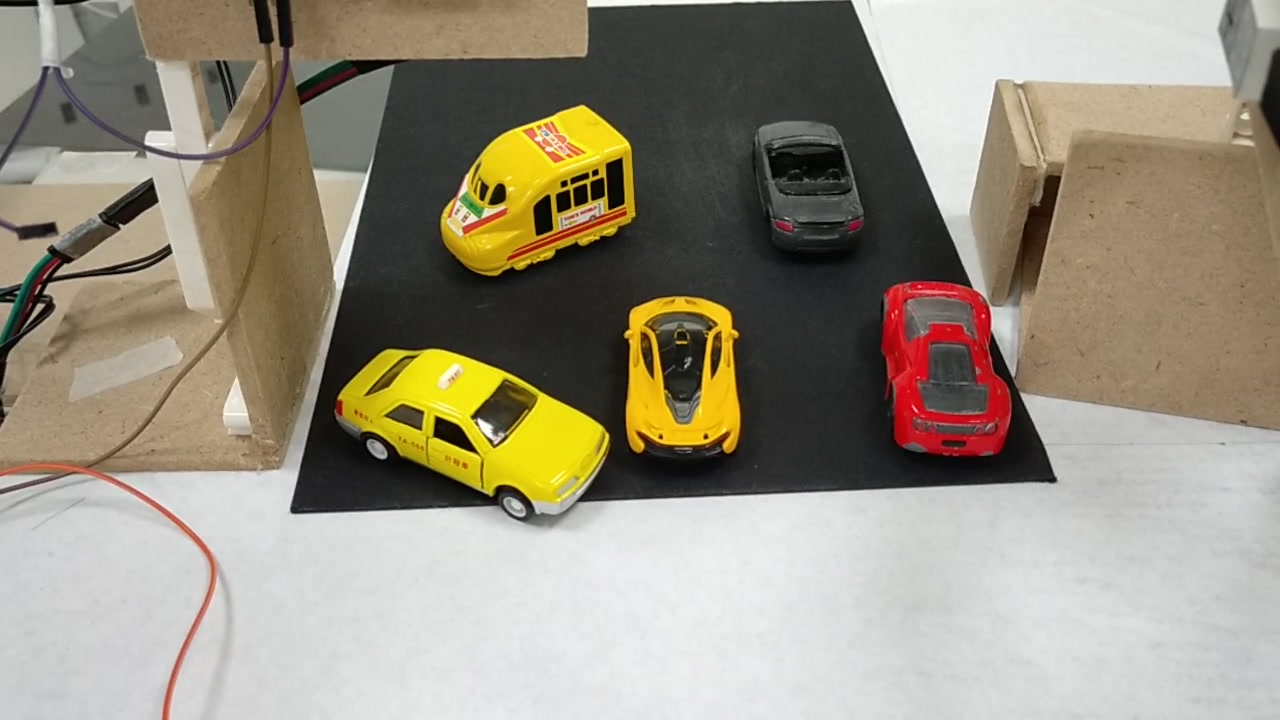car: (329, 332, 612, 533), (876, 274, 1011, 462), (618, 303, 748, 465), (749, 115, 867, 252)
